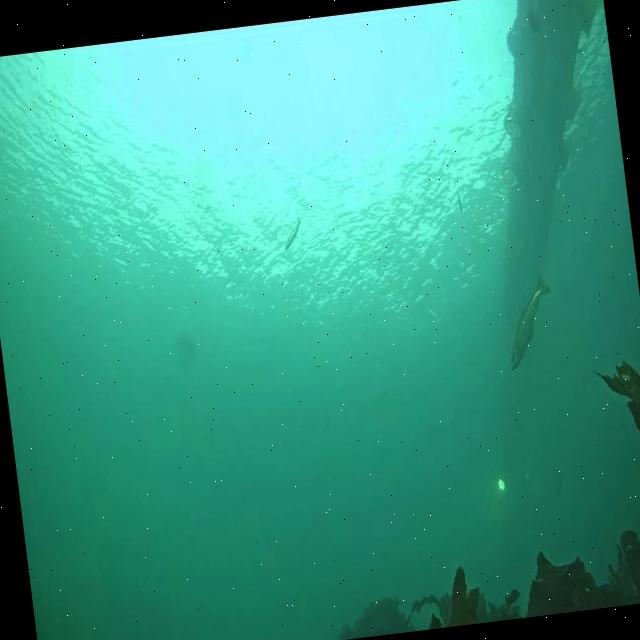fish: (498, 271, 560, 372), (281, 214, 305, 250), (456, 189, 464, 218)
